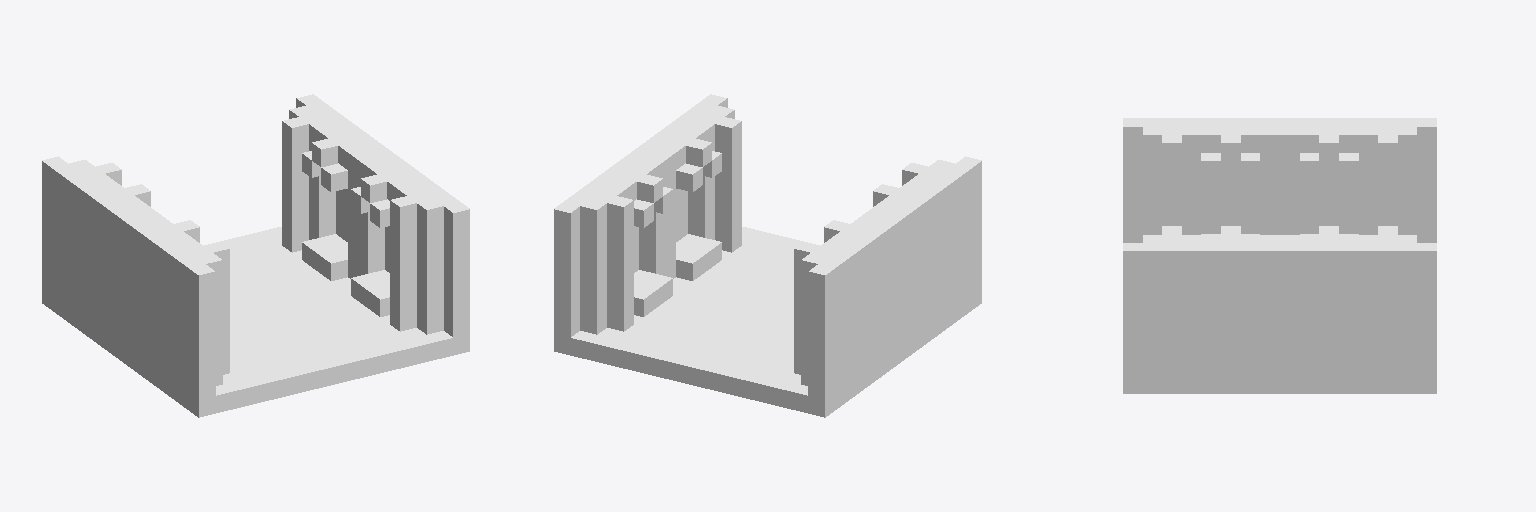
File: towar-34.obj
The picture shows the model from 3 angles: view 1: azimuth 30°, elevation 25°; view 2: azimuth 150°, elevation 25°; view 3: azimuth 270°, elevation 25°; orthographic projection.
Parts seen in each view (by area): view 1: towar-34; view 2: towar-34; view 3: towar-34.
Boxes of the visible parts, box(x1,y1,x2,y2) form: towar-34: box(42, 94, 469, 417); towar-34: box(554, 94, 981, 417); towar-34: box(1123, 118, 1436, 393).
Size of the model in its own units: 16 by 8 by 16.